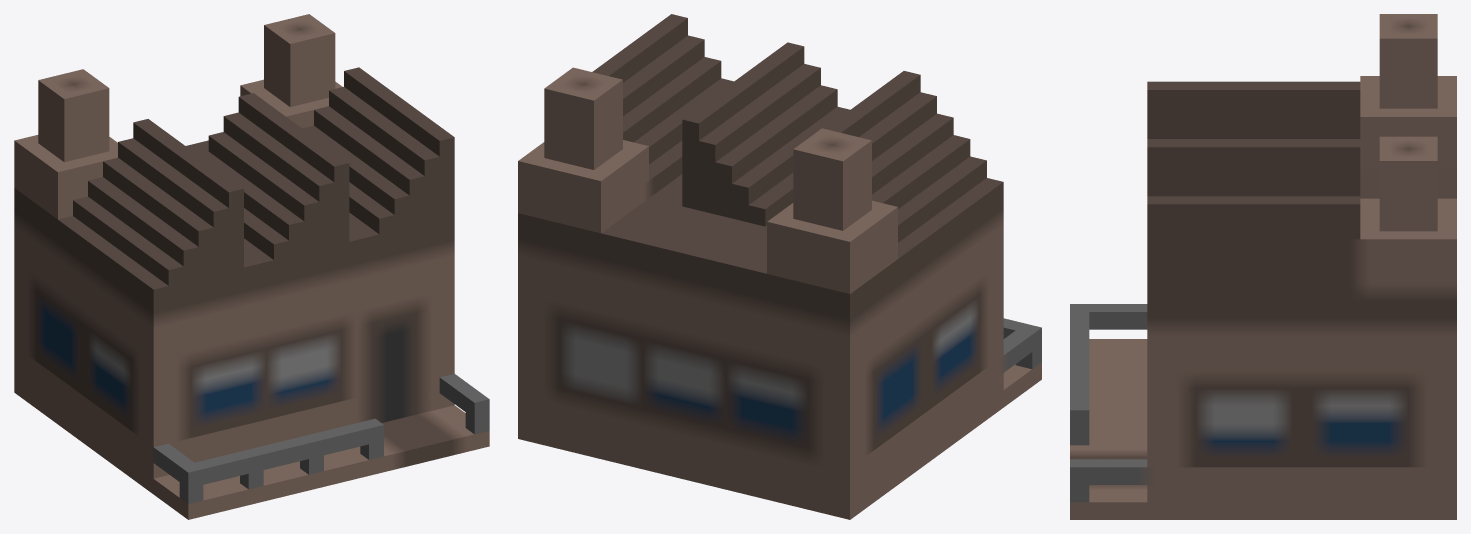
File: Fabrica1.fbx
3 renders of one model, left to right at view 1: azimuth 30°, elevation 25°; view 2: azimuth 150°, elevation 25°; view 3: azimuth 270°, elevation 25°, orthographic. The views are drawn at different scales.
Visible parts, largest first — view 1: Fabrica1; view 2: Fabrica1; view 3: Fabrica1.
Part boxes in pixels (box(x1,y1,x2,y2)): Fabrica1: box(14, 14, 489, 519); Fabrica1: box(518, 14, 1041, 519); Fabrica1: box(1070, 14, 1456, 519).
Size of the model in its own units: 20 by 20 by 20.
